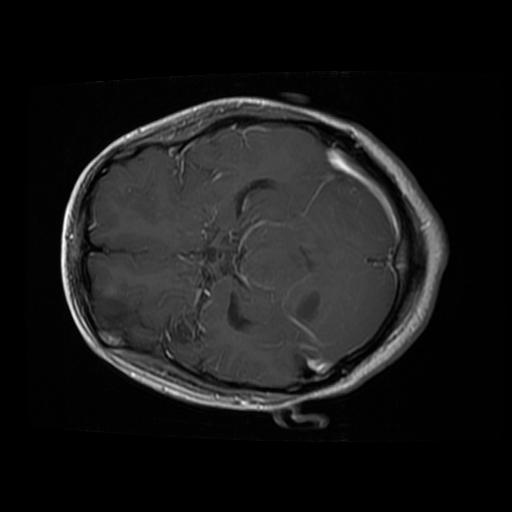glioma: (291, 291, 323, 324)
